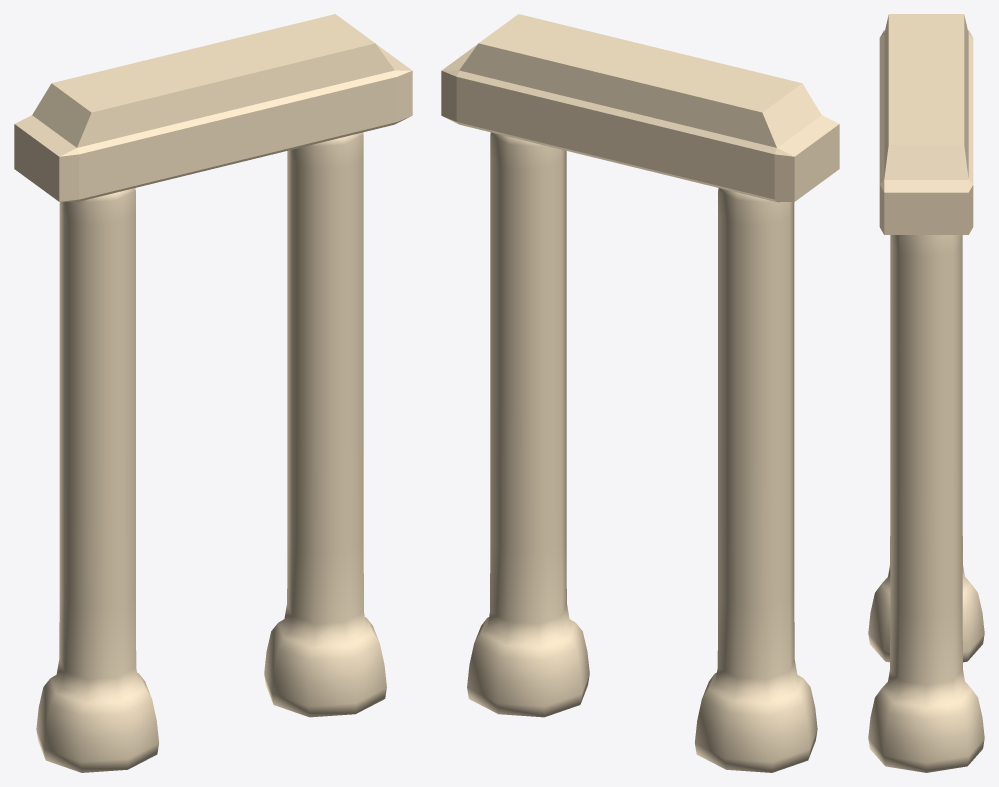
File: column2.fbx
3 views of the same model, side by side, from view 1: azimuth 30°, elevation 25°; view 2: azimuth 150°, elevation 25°; view 3: azimuth 270°, elevation 25° (orthographic). The views are drawn at different scales.
Parts seen in each view (by area): view 1: column02, Cup02; view 2: column02, Cup02; view 3: column02, Cup02.
Part boxes in pixels (x1,y1,x2,y2): column02: (36,132,386,772); Cup02: (14,14,412,202); column02: (467,132,817,772); Cup02: (441,14,839,202); column02: (868,235,984,772); Cup02: (879,14,973,234).
Size of the model in its own units: 818 by 1463 by 248.
